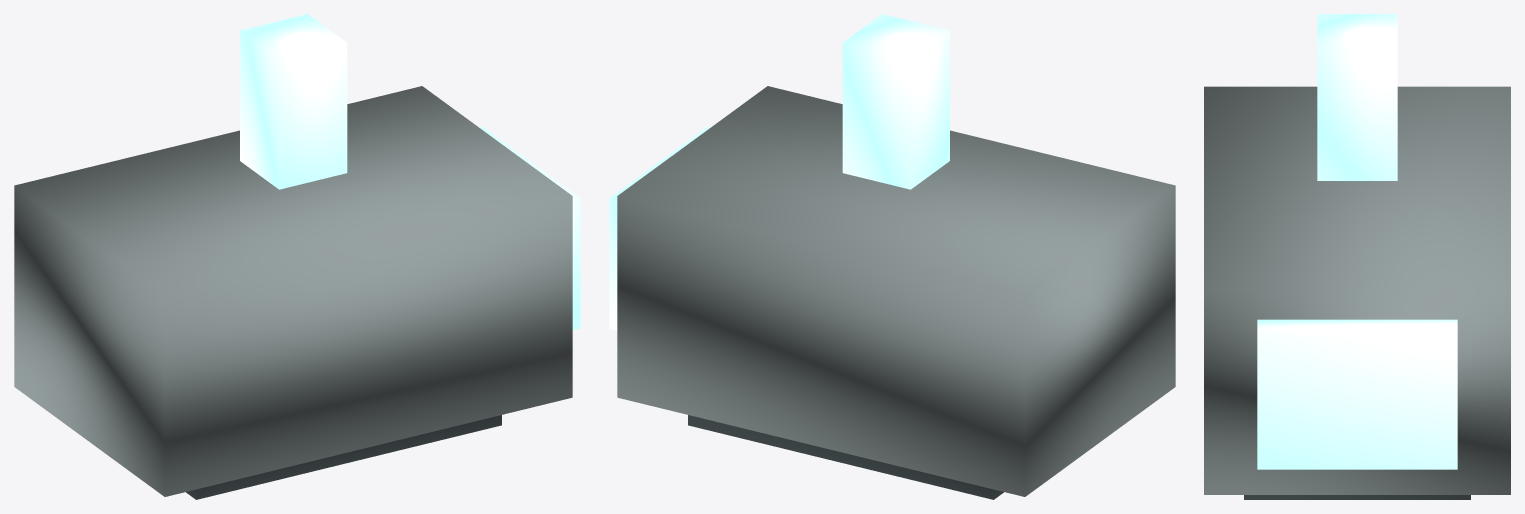
The model's file is pickup-recovery-capsule-lod2.glb.
3 views of the same model, side by side, from view 1: azimuth 30°, elevation 25°; view 2: azimuth 150°, elevation 25°; view 3: azimuth 270°, elevation 25° (orthographic).
Parts seen in each view (by area): view 1: pickup-recovery-shell, pickup-recovery-beacon, pickup-recovery-skid, pickup-recovery-core; view 2: pickup-recovery-shell, pickup-recovery-beacon, pickup-recovery-skid, pickup-recovery-core; view 3: pickup-recovery-shell, pickup-recovery-core, pickup-recovery-beacon, pickup-recovery-skid.
Part boxes in pixels (x1,y1,x2,y2): pickup-recovery-shell: (14,86,572,496); pickup-recovery-beacon: (240,14,347,189); pickup-recovery-skid: (186,415,501,499); pickup-recovery-core: (479,126,580,330); pickup-recovery-shell: (617,86,1175,496); pickup-recovery-beacon: (842,14,949,189); pickup-recovery-skid: (688,415,1003,499); pickup-recovery-core: (609,126,710,330); pickup-recovery-shell: (1204,86,1510,494); pickup-recovery-core: (1257,319,1457,469); pickup-recovery-beacon: (1317,14,1397,180); pickup-recovery-skid: (1244,495,1470,499).
Bounding box in the file's own units: 0.78 × 0.65 × 0.46.
